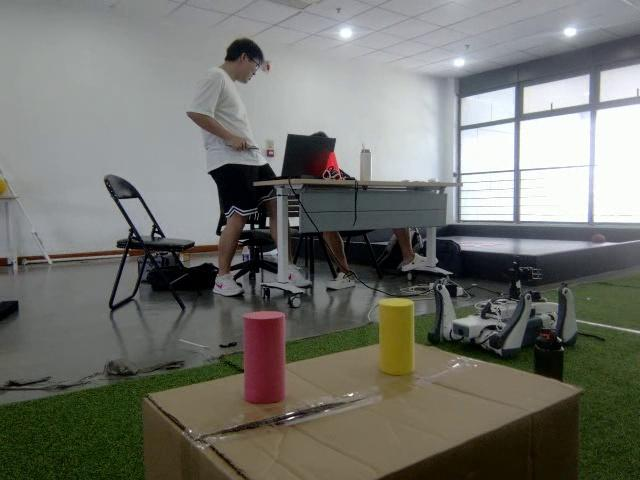red_cylinder: (238, 308, 288, 406)
yellow_cylinder: (375, 296, 421, 378)
